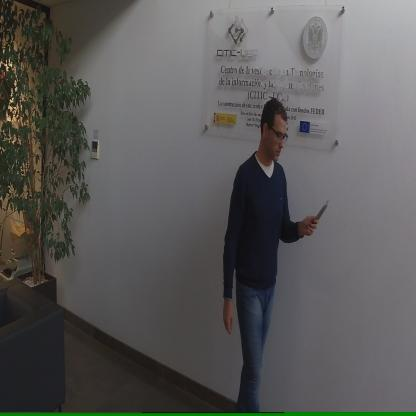knife: (306, 195, 332, 234)
